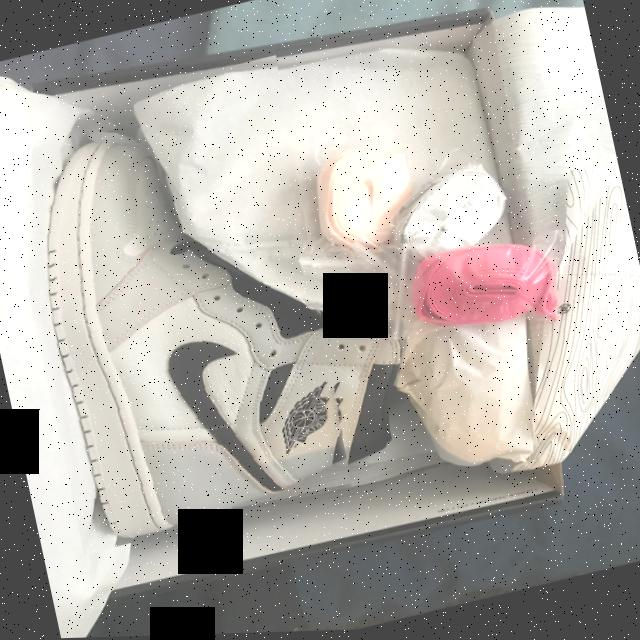shoe: (0, 53, 368, 557)
